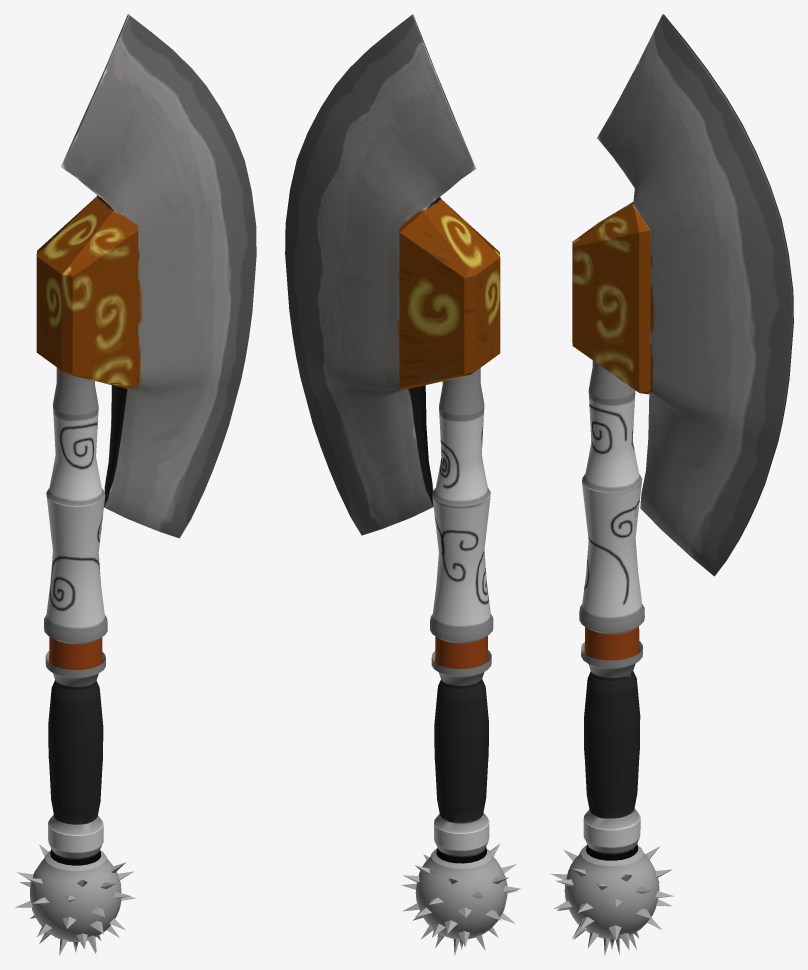
File: HacheLancer2.fbx
3 renders of one model, left to right at view 1: azimuth 30°, elevation 25°; view 2: azimuth 150°, elevation 25°; view 3: azimuth 330°, elevation 25°, orthographic. The views are drawn at different scales.
Visible parts, largest first — view 1: pCylinder3; view 2: pCylinder3; view 3: pCylinder3.
Boxes of the visible parts, x1=… form: pCylinder3: x1=15, y1=14, x2=256, y2=955; pCylinder3: x1=285, y1=14, x2=521, y2=955; pCylinder3: x1=550, y1=14, x2=793, y2=955.
Size of the model in its own units: 0.1583 by 0.6104 by 0.0748.
